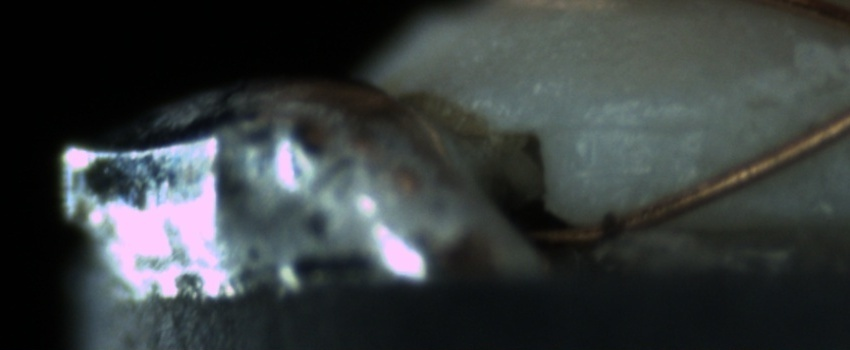DL: (567, 91, 710, 161)
